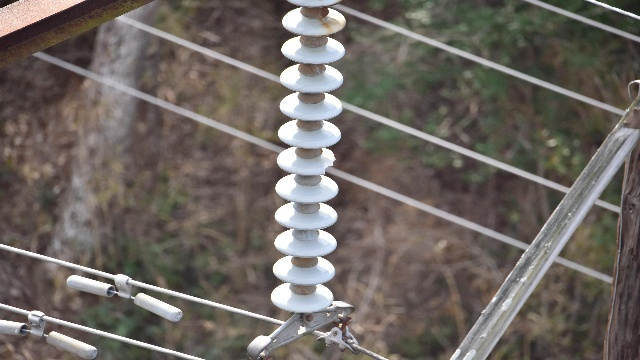broken_local: (318, 149, 337, 177)
insulator_unspecified: (268, 0, 345, 311)
